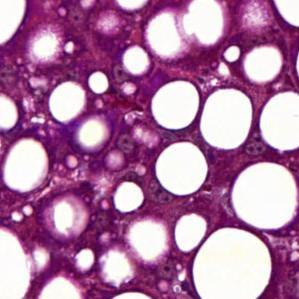steatosis: (231, 165, 298, 230), (152, 143, 211, 195), (152, 80, 201, 129), (4, 140, 50, 192), (48, 82, 86, 120)
